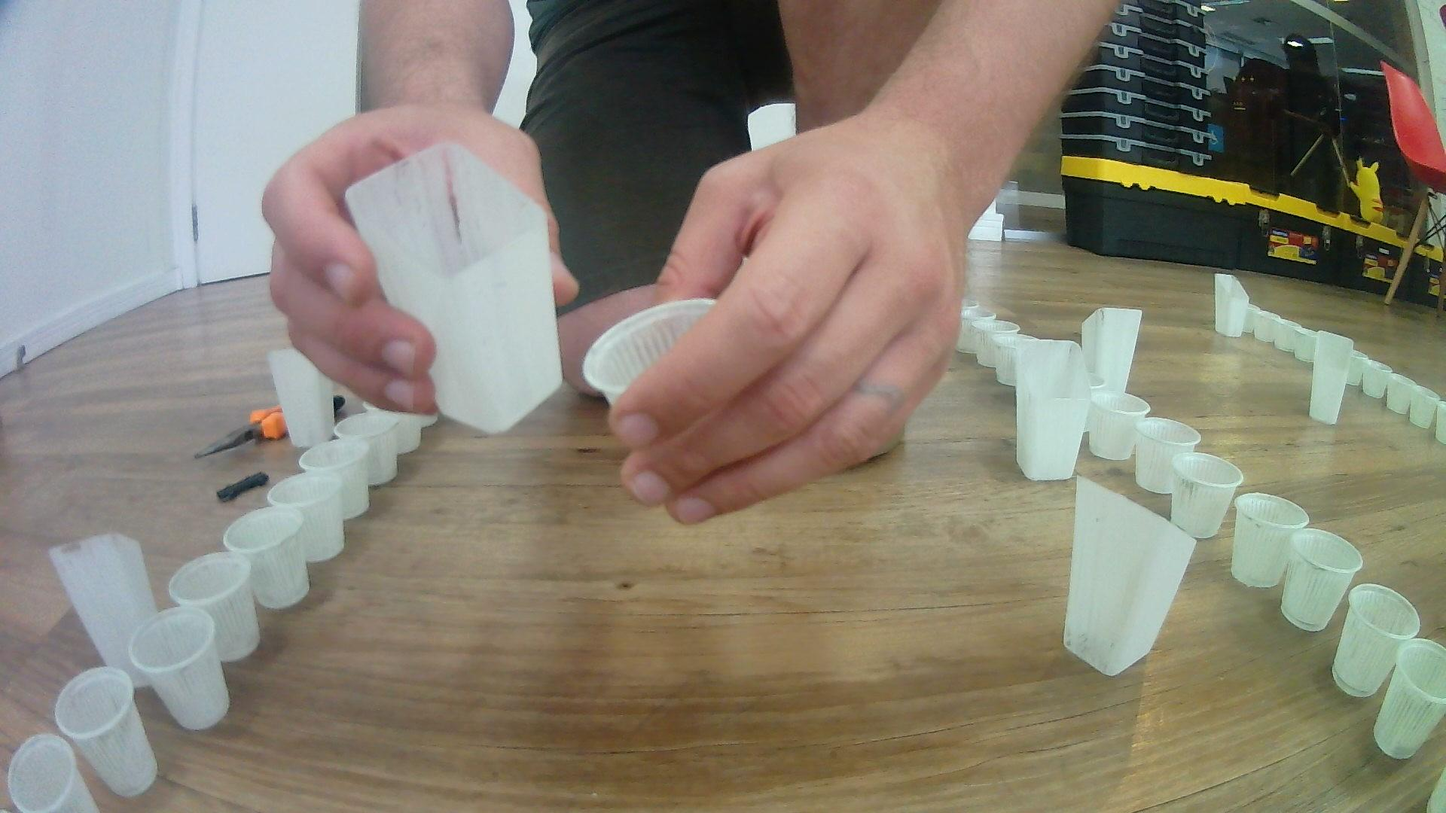erva_daninha: (343, 139, 563, 440), (1063, 474, 1199, 677), (46, 531, 157, 687), (1014, 338, 1093, 483), (267, 343, 337, 450), (1080, 305, 1144, 394), (1309, 330, 1354, 426), (1213, 273, 1250, 338)
planta: (582, 298, 718, 410), (53, 665, 161, 799), (124, 604, 232, 732), (166, 551, 262, 664), (1330, 583, 1420, 698), (221, 506, 313, 610), (1280, 527, 1365, 632), (1373, 640, 1446, 760), (264, 468, 346, 564), (1229, 492, 1310, 589), (6, 733, 101, 813), (1169, 452, 1245, 540), (297, 435, 370, 521), (1132, 416, 1203, 495), (331, 410, 400, 486), (1089, 391, 1152, 462), (975, 319, 1022, 369), (956, 307, 997, 355), (386, 410, 424, 455), (1408, 386, 1441, 430), (995, 336, 1023, 387), (1383, 372, 1416, 415), (1362, 360, 1393, 400), (1243, 304, 1274, 343), (1291, 326, 1323, 363), (1269, 318, 1297, 352), (1346, 348, 1369, 388), (960, 294, 980, 318), (1436, 401, 1446, 445)
